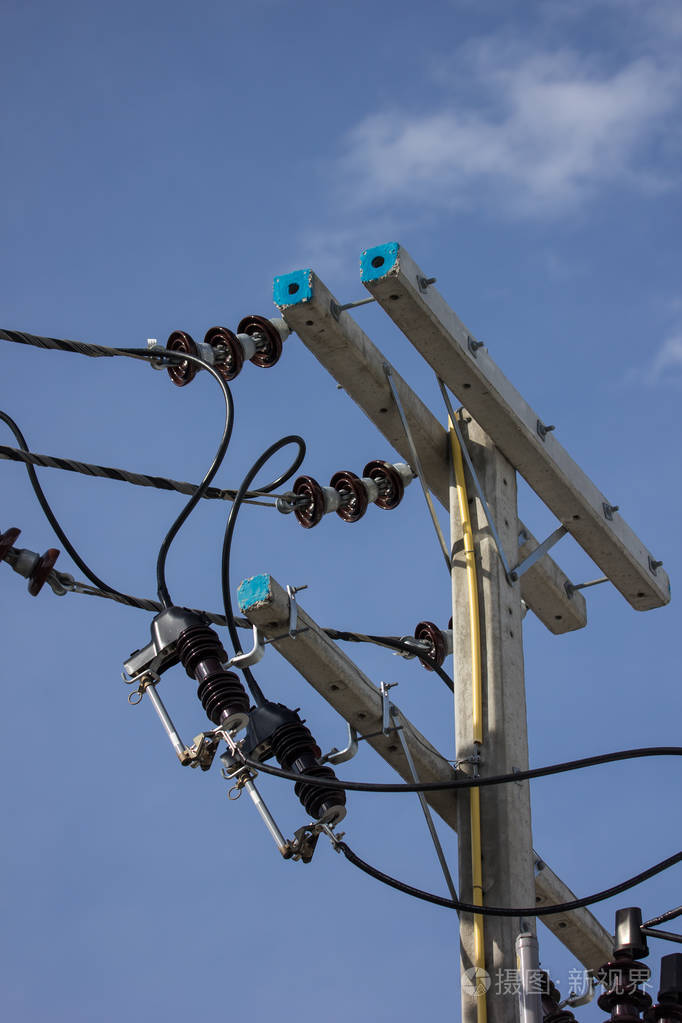insulator: (161, 313, 281, 388), (288, 457, 401, 530), (1, 527, 62, 599), (412, 618, 457, 677)
